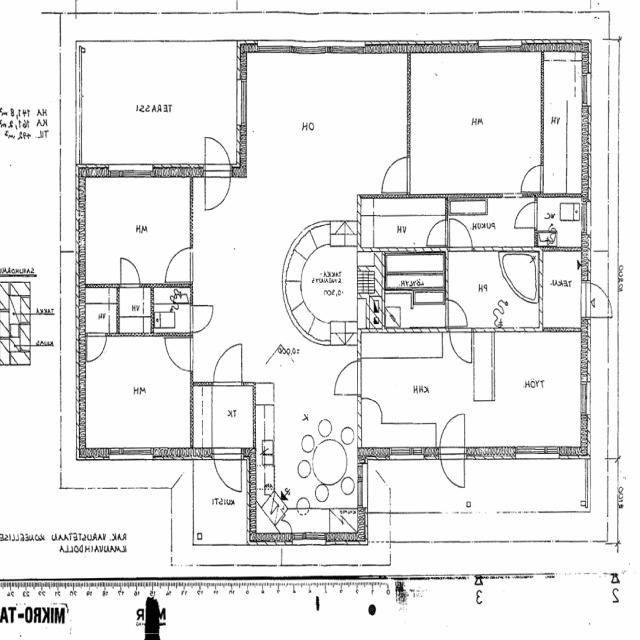door: (214, 448, 242, 497), (582, 283, 618, 318), (214, 345, 242, 387), (440, 415, 465, 461), (440, 447, 465, 493), (205, 164, 230, 210), (205, 132, 230, 178), (381, 158, 411, 193), (332, 362, 362, 396), (164, 248, 193, 282), (165, 338, 194, 371), (450, 218, 472, 252), (451, 329, 472, 361), (445, 300, 469, 326), (514, 203, 538, 228), (521, 166, 544, 192), (190, 306, 213, 332), (426, 220, 448, 246), (121, 259, 140, 288), (88, 333, 106, 362)
